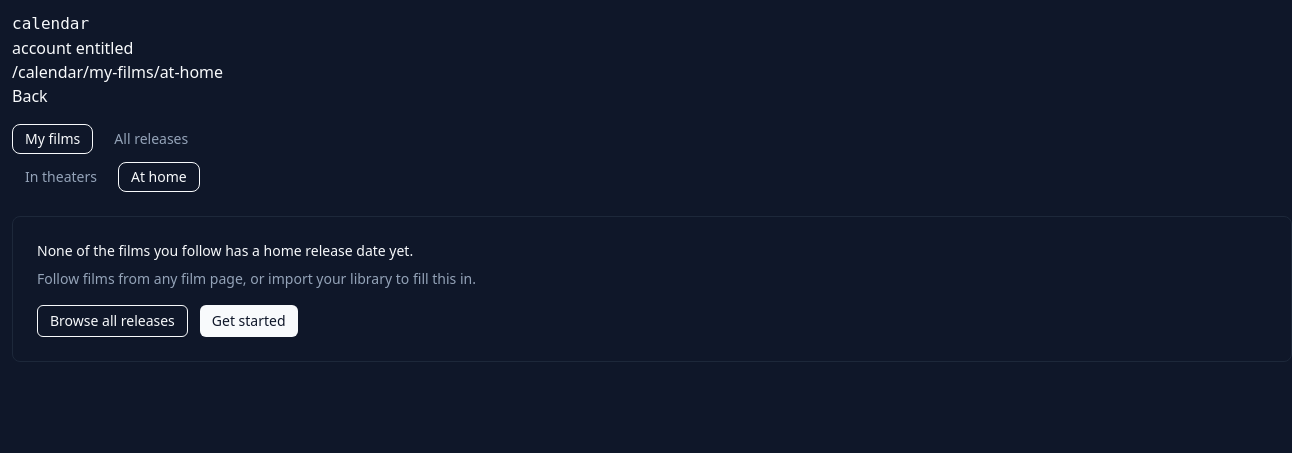
Test: calendar view — every view is an address (NEU-1544) › makes every tab and kind a link that keeps the other axis
This screenshot has width=1292, height=453.
Expected: the element named "Calendar view" is shown, [12, 124, 188, 154]
Click the tab "All releases" at {"x": 151, "y": 138}, box [114, 129, 188, 148]
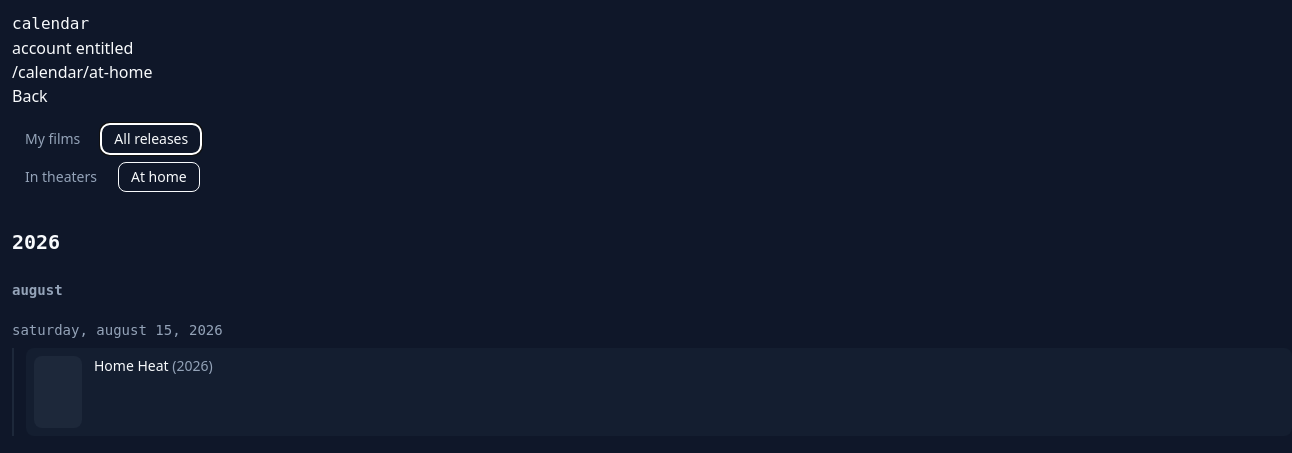
Expected: the text with test id "location" reads "/calendar/at-home", [12, 61, 152, 83]
